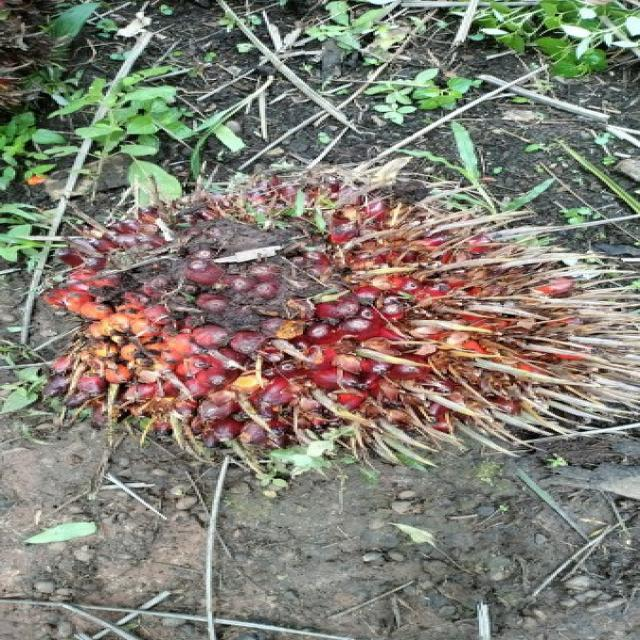fraksi 3: (0, 120, 625, 505)
